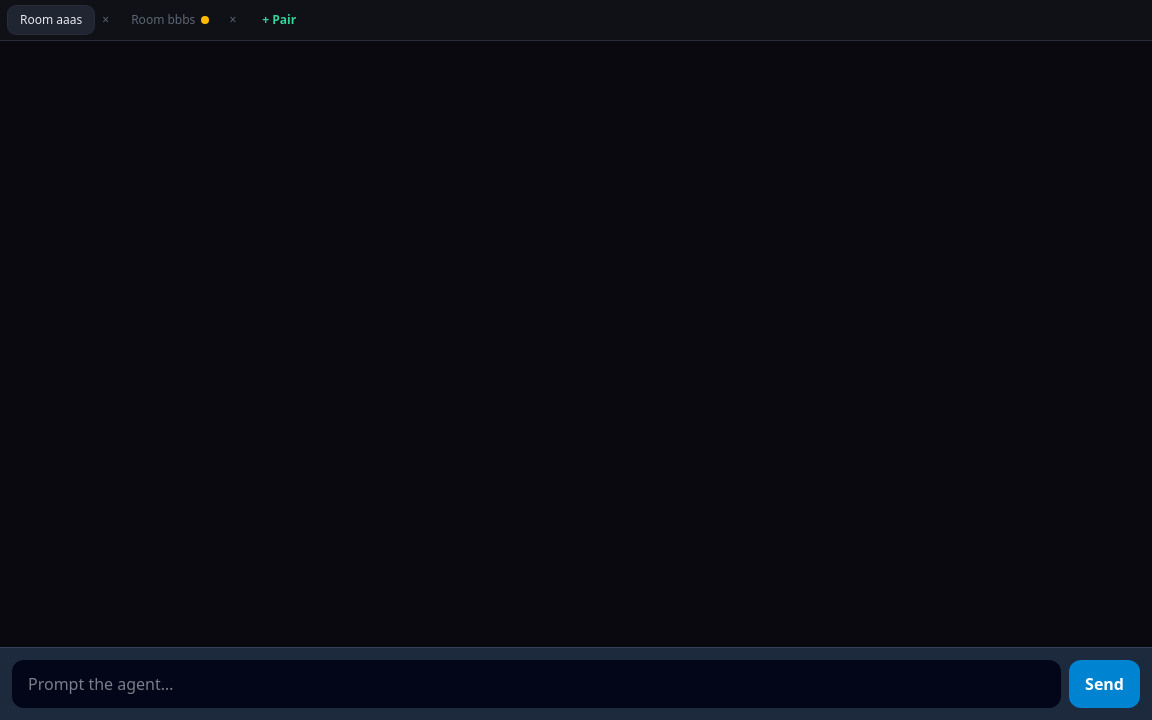
session tabs › switching tabs activates that session and shows its intercept overlay
Expected: the text "action required" is not shown
Click the tab with test id "tab-room_bbbbs".
click(170, 20)  # box [119, 6, 221, 34]
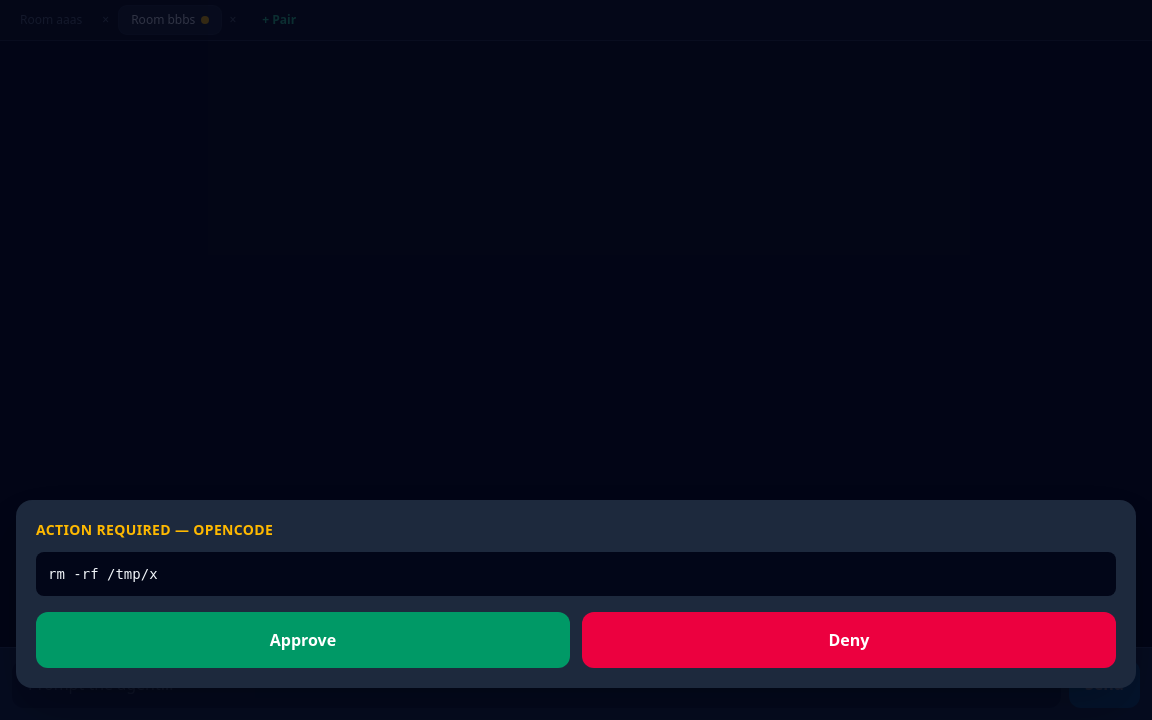
Now the text "Action required — opencode" is shown, box [36, 520, 273, 539]
